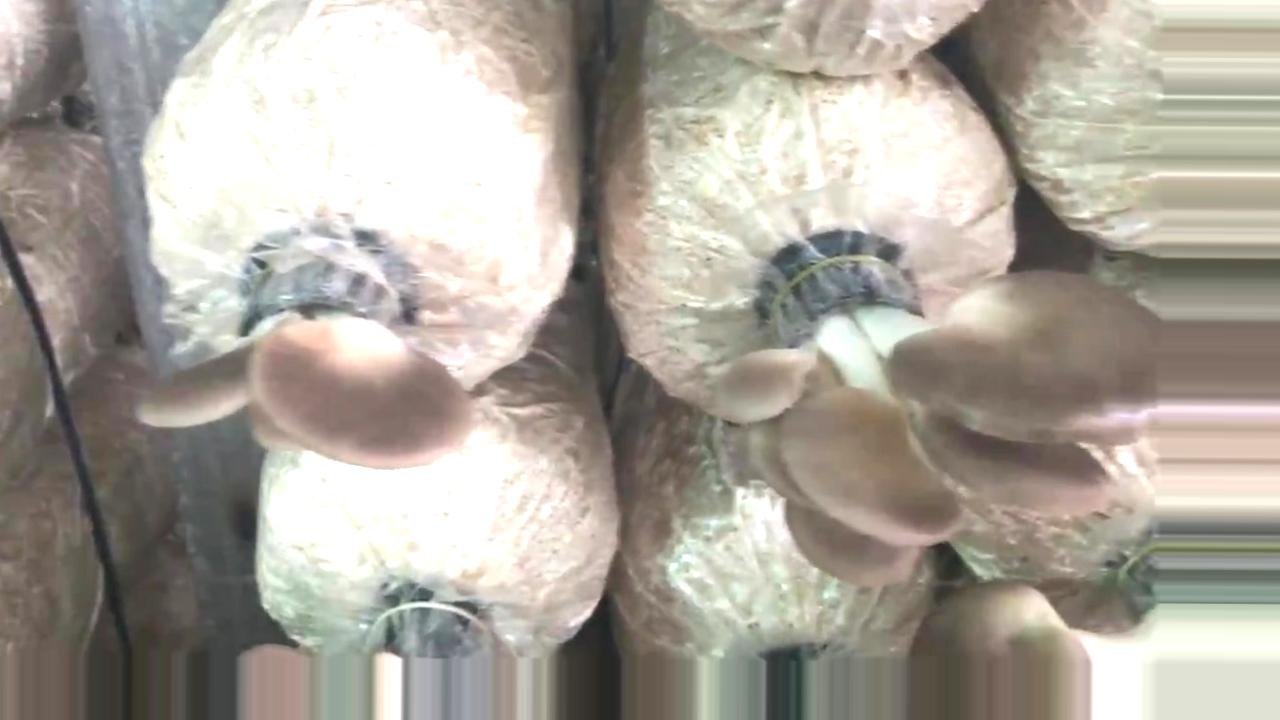nam: (705, 260, 1175, 589), (136, 230, 482, 470)
